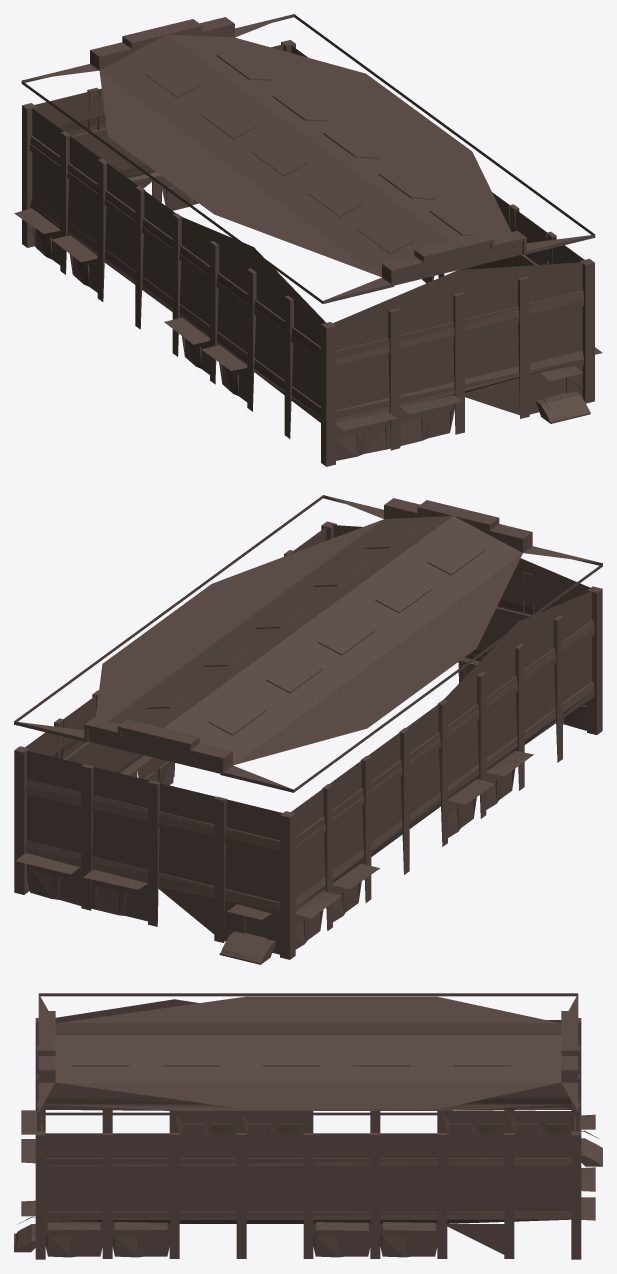
Rendered from ind-building-10.walls-v1.lod2.glb.
3 renders of one model, top to bottom at view 1: azimuth 30°, elevation 25°; view 2: azimuth 150°, elevation 25°; view 3: azimuth 270°, elevation 25°, orthographic. The views are drawn at different scales.
Parts seen in each view (by area): view 1: Industrial_Building_10_Material #2_0; view 2: Industrial_Building_10_Material #2_0; view 3: Industrial_Building_10_Material #2_0.
Boxes of the visible parts, box(x1,y1,x2,y2) form: Industrial_Building_10_Material #2_0: box(14, 14, 602, 466); Industrial_Building_10_Material #2_0: box(14, 495, 602, 964); Industrial_Building_10_Material #2_0: box(14, 993, 602, 1259).
Bounding box in the file's own units: 43.5 × 25.82 × 83.27.
